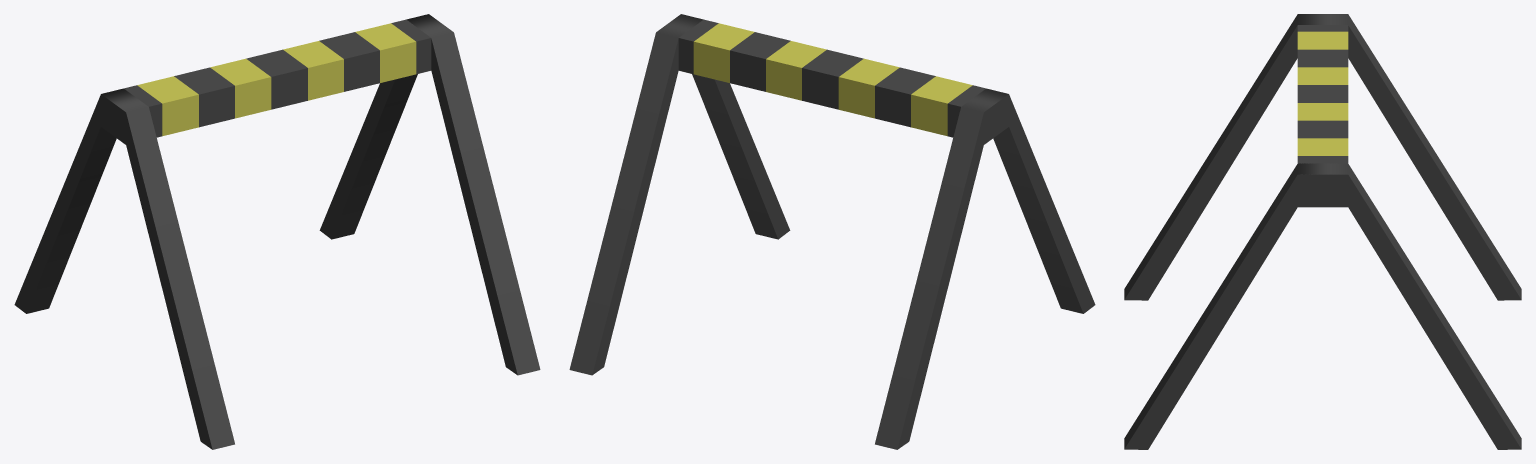
Rendered from barrikade.fbx.
The picture shows the model from 3 angles, left to right: view 1: azimuth 30°, elevation 25°; view 2: azimuth 150°, elevation 25°; view 3: azimuth 270°, elevation 25°; orthographic projection.
Visible parts, largest first — view 1: barrikade; view 2: barrikade; view 3: barrikade.
Part boxes in pixels (<box>): barrikade: <box>14,14,540,449</box>; barrikade: <box>569,14,1095,449</box>; barrikade: <box>1124,14,1521,449</box>.
Size of the model in its own units: 9.03 by 7.23 by 9.45.
